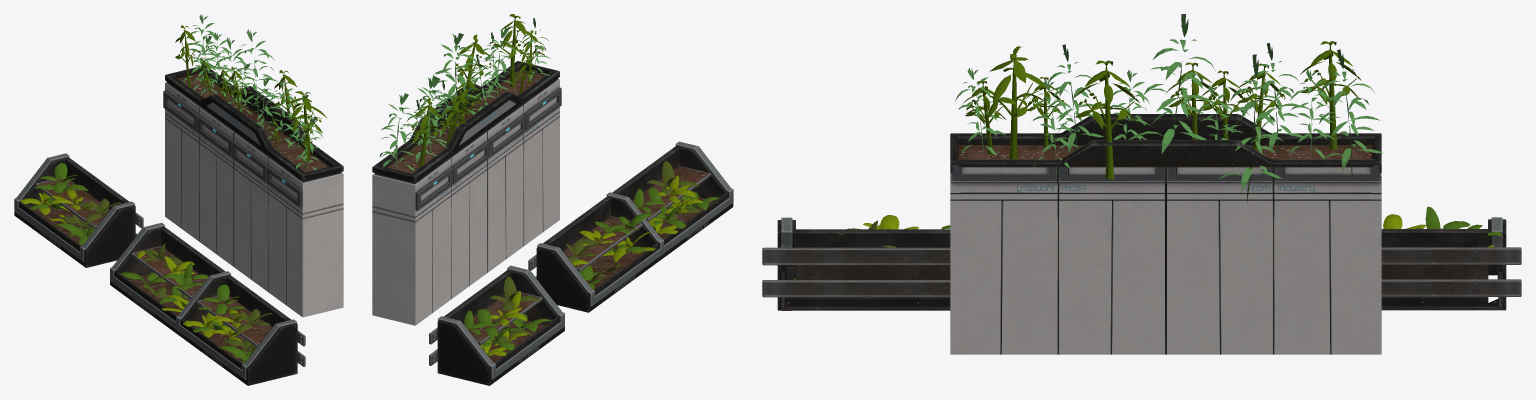
Rendered from hydroponic_rack.glb.
The picture shows the model from 3 angles, left to right: view 1: azimuth 30°, elevation 25°; view 2: azimuth 150°, elevation 25°; view 3: azimuth 270°, elevation 25°; orthographic projection. The views are drawn at different scales.
Visible parts, largest first — view 1: plantpot_base6; view 2: plantpot_base6; view 3: plantpot_base6.
Boxes of the visible parts, left/top/right/bottom form: plantpot_base6: left=14, top=14, right=343, bottom=385; plantpot_base6: left=372, top=14, right=733, bottom=385; plantpot_base6: left=762, top=14, right=1521, bottom=354.
Size of the model in its own units: 0.5488 by 0.73 by 1.4.
Materials: 7 (2 with a texture image).
